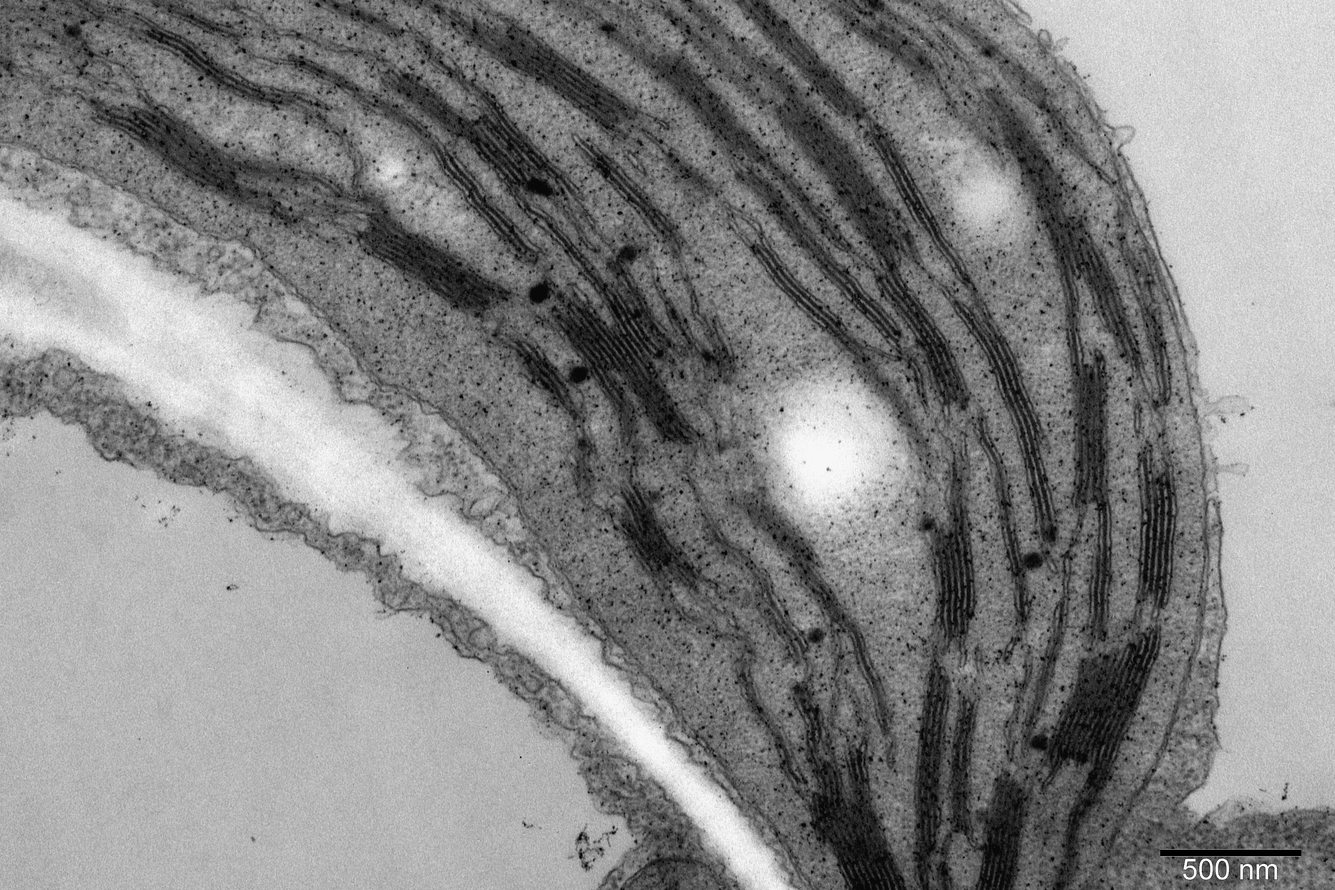granum: (725, 162, 906, 352), (89, 99, 323, 244), (540, 265, 703, 451), (767, 93, 926, 270), (953, 296, 1063, 545), (444, 8, 641, 140), (376, 57, 558, 198), (1042, 627, 1165, 827), (132, 19, 335, 134), (726, 486, 859, 630), (354, 205, 508, 323), (729, 1, 872, 128), (1036, 207, 1145, 366), (801, 739, 912, 890), (744, 230, 871, 357), (639, 47, 774, 165), (871, 268, 977, 411), (432, 145, 548, 268), (568, 135, 684, 255), (979, 84, 1075, 223), (608, 474, 712, 598), (916, 443, 979, 641), (857, 120, 947, 240), (910, 666, 953, 865), (971, 766, 1034, 889), (785, 675, 848, 794), (1064, 359, 1113, 511), (508, 330, 587, 422), (1132, 455, 1182, 597), (943, 696, 982, 840), (750, 587, 811, 669), (865, 17, 939, 82), (995, 49, 1057, 117), (1082, 537, 1116, 644)
